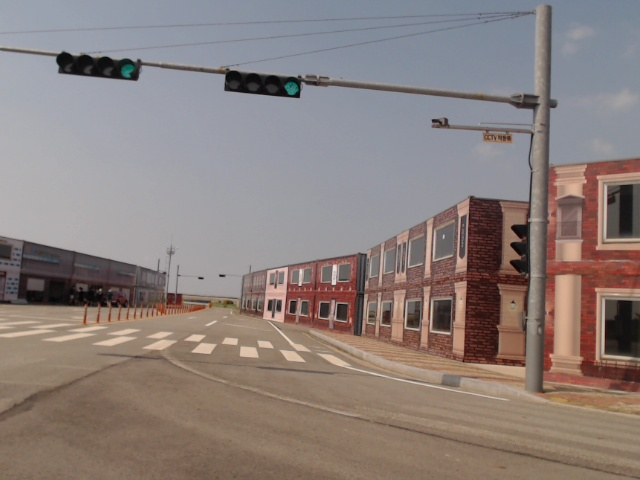straight_green_4: (224, 70, 301, 100), (60, 56, 139, 81)
